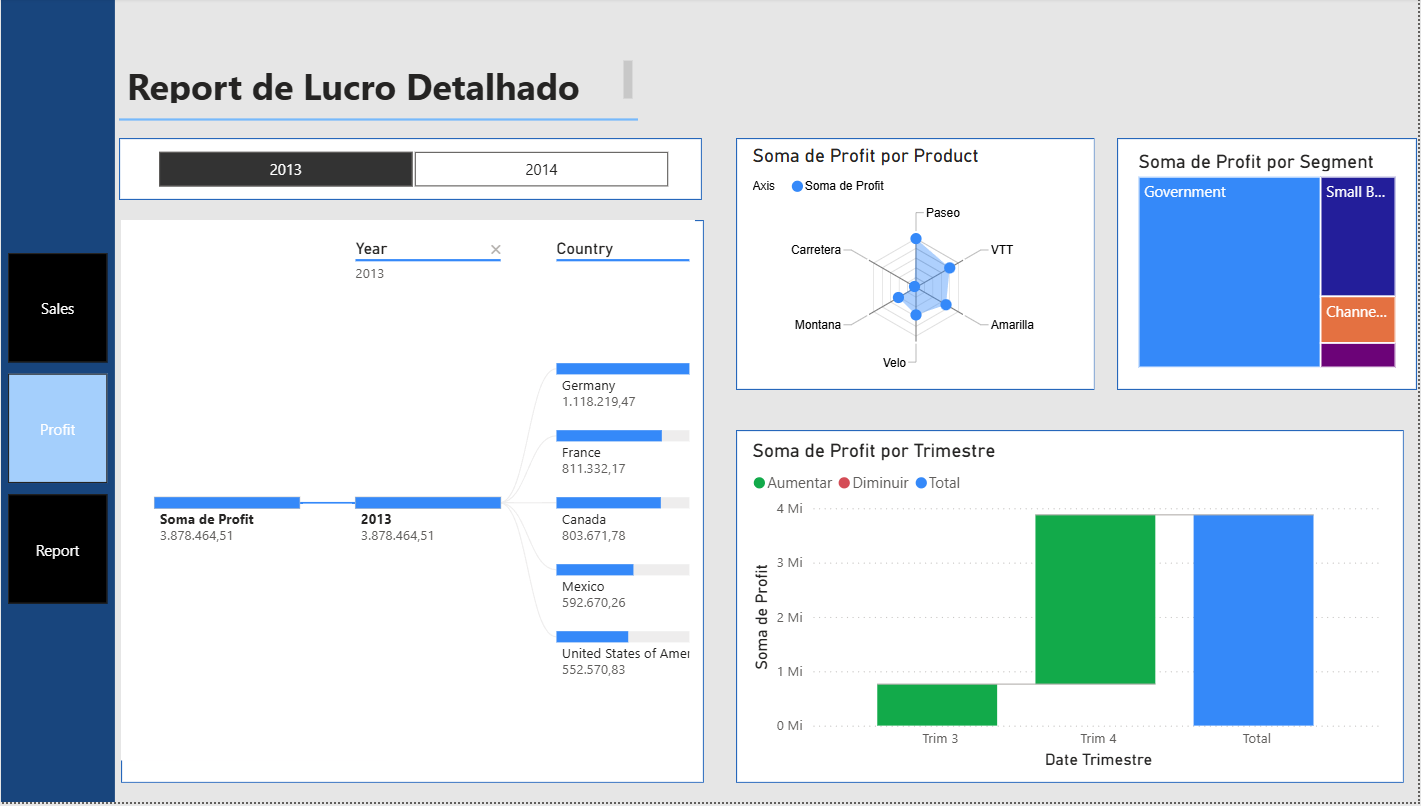

The dashboard page shown, as its layout file describes it:
{"tool":"powerbi","page":{"name":"Profit","canvas":[1280,720],"ordinal":1},"visuals":[{"type":"shape","box":[117.3,92.2,464.8,33.1],"z":0},{"type":"textbox","box":[119.1,51,463,48.4],"z":2000},{"type":"actionButton","box":[1208,54.7,59.9,51.3],"z":3000},{"type":"shape","box":[11.6,0,102.1,720],"z":4000},{"type":"shape","box":[117.3,125.4,522.1,55.5],"z":5000},{"type":"shape","box":[119.1,198.8,522.1,504.2],"z":6000},{"type":"shape","box":[669.9,386.9,598.2,316.1],"z":7000},{"type":"shape","box":[669.9,125.4,321.5,225.7],"z":8000},{"type":"shape","box":[1011,125.4,268.7,225.7],"z":9000},{"type":"slicer","fields":{"Values":["financials.Year"]},"box":[127.2,130.7,506,44.8],"z":10000},{"type":"decompositionTreeVisual","fields":{"Analyze":["Sum(financials.Profit)"],"ExplainBy":["financials.Year","financials.Country"]},"box":[119.1,198.8,514,484.5],"z":11000},{"type":"RadarChart1446119667547","fields":{"Category":["financials.Product"],"Y":["Sum(financials.Profit)"]},"box":[679.7,130.7,302.7,210.4],"z":12000},{"type":"treemap","fields":{"Group":["financials.Segment"],"Values":["Sum(financials.Profit)"]},"box":[1025.4,136.1,240,199.7],"z":13000},{"type":"waterfallChart","fields":{"Category":["financials.Date.Variation.Hierarquia de datas.Trimestre"],"Y":["Sum(financials.Profit)"]},"box":[679.7,394.9,574.9,300],"z":14000},{"type":"pageNavigator","box":[17.9,228.4,89.6,314.3],"z":15000}]}

Visuals, with their boxes on the page's 1280x720 design canvas (x1, y1, x2, y2). These are canvas units, not pixel positions in the 1421x806 screenshot, which may show the page scaled, cropped or inside an application window:
shape: <box>117,92,582,125</box>
textbox: <box>119,51,582,99</box>
actionButton: <box>1208,55,1268,106</box>
shape: <box>12,0,114,720</box>
shape: <box>117,125,639,181</box>
shape: <box>119,199,641,703</box>
shape: <box>670,387,1268,703</box>
shape: <box>670,125,991,351</box>
shape: <box>1011,125,1280,351</box>
slicer - financials.Year: <box>127,131,633,176</box>
decompositionTreeVisual - Sum(financials.Profit) x financials.Year: <box>119,199,633,683</box>
RadarChart1446119667547 - financials.Product x Sum(financials.Profit): <box>680,131,982,341</box>
treemap - financials.Segment x Sum(financials.Profit): <box>1025,136,1265,336</box>
waterfallChart - financials.Date.Variation.Hierarquia de datas.Trimestre x Sum(financials.Profit): <box>680,395,1255,695</box>
pageNavigator: <box>18,228,108,543</box>
